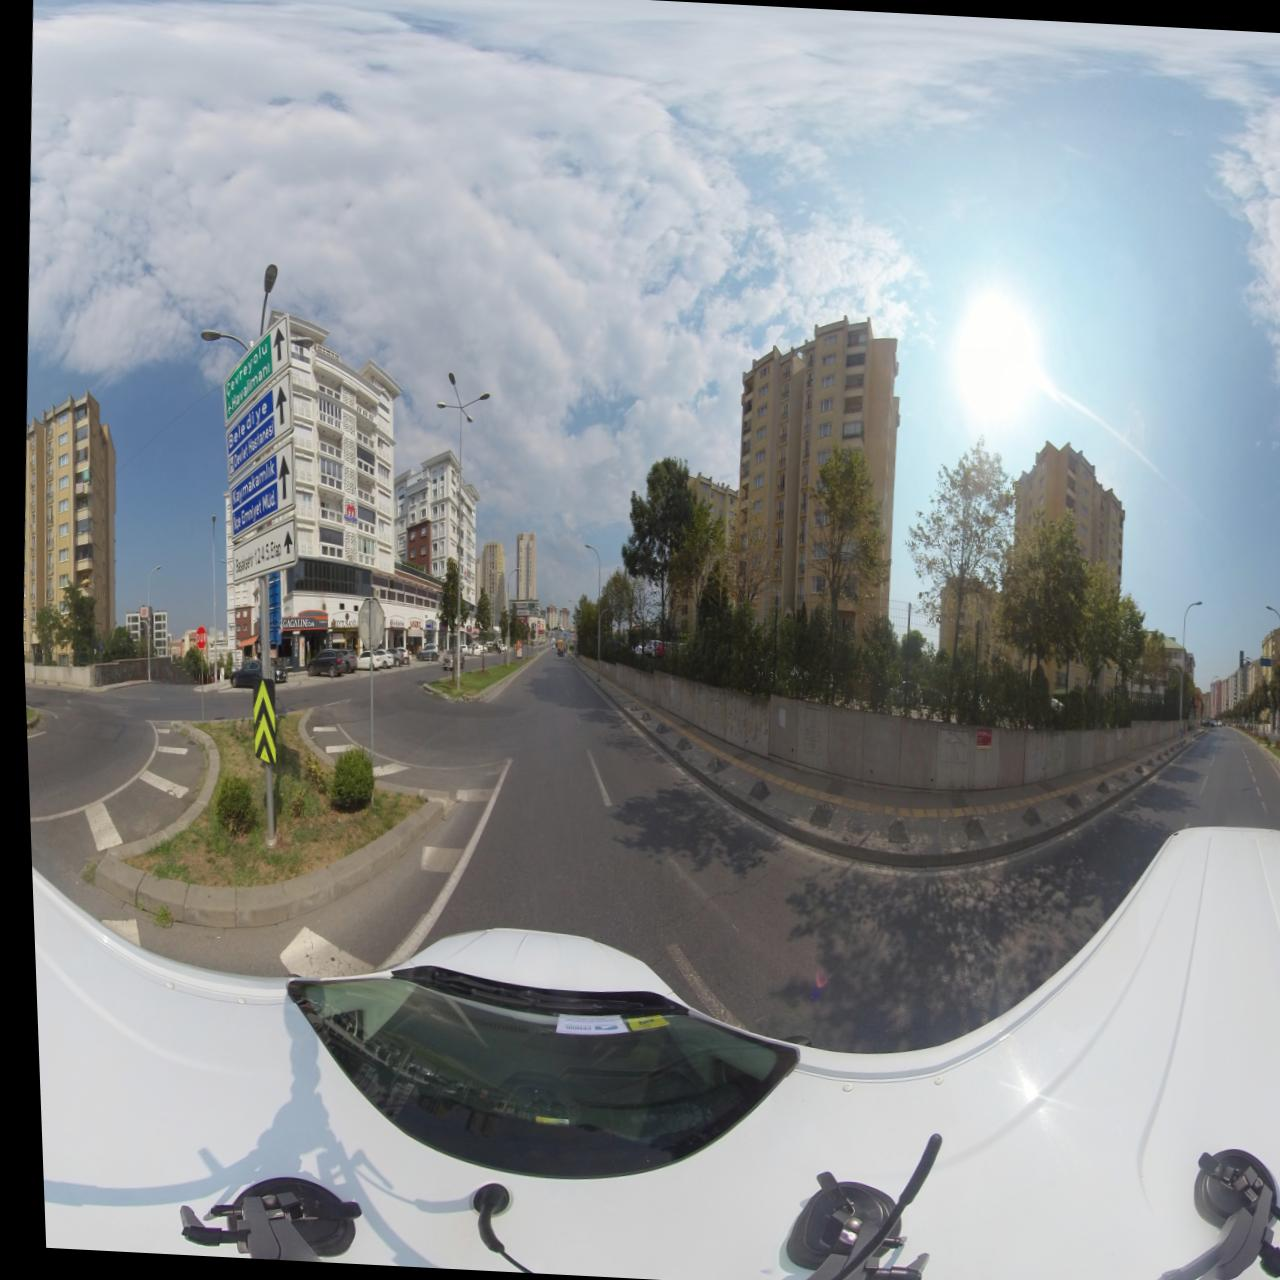SignStore: (278, 617, 313, 629), (331, 618, 353, 627), (404, 619, 417, 628), (388, 619, 399, 628), (421, 622, 431, 629)
